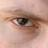eye: (17, 18, 28, 25)
